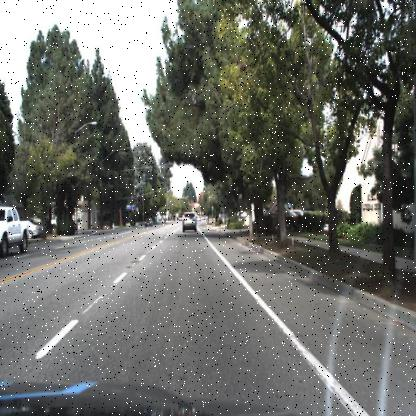car: (0, 204, 28, 258), (180, 210, 198, 236), (26, 216, 44, 240), (142, 216, 156, 232)
